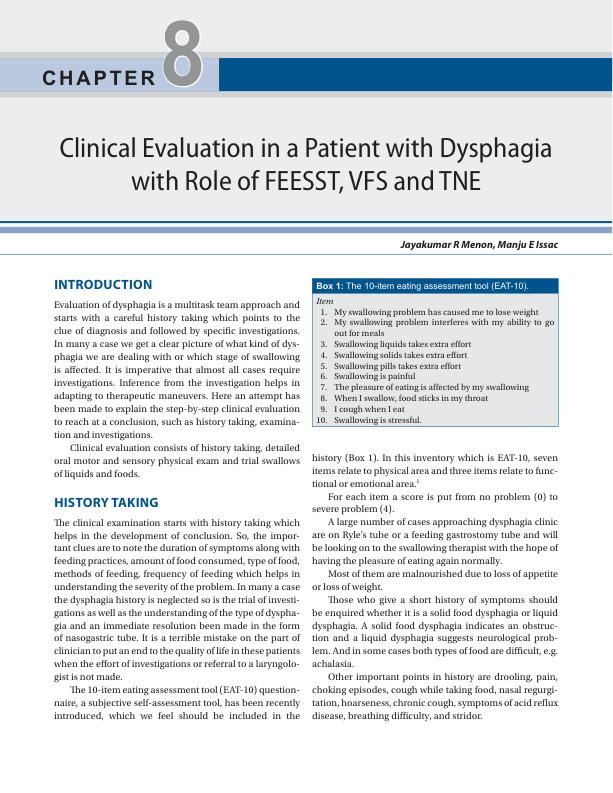caption: (315, 280, 530, 292)
chapter-heading: (58, 134, 556, 196)
list: (312, 292, 559, 427)
section-heading: (53, 496, 160, 509), (53, 278, 154, 290)
text: (310, 451, 562, 723), (52, 517, 302, 722), (53, 298, 302, 482)
